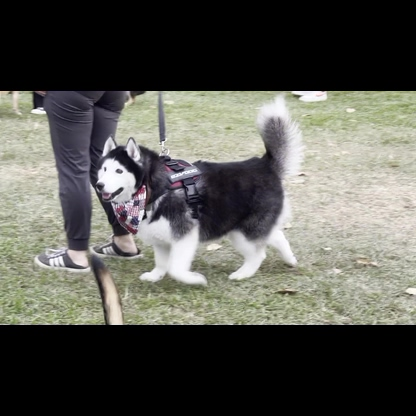husky: (87, 97, 311, 282)
